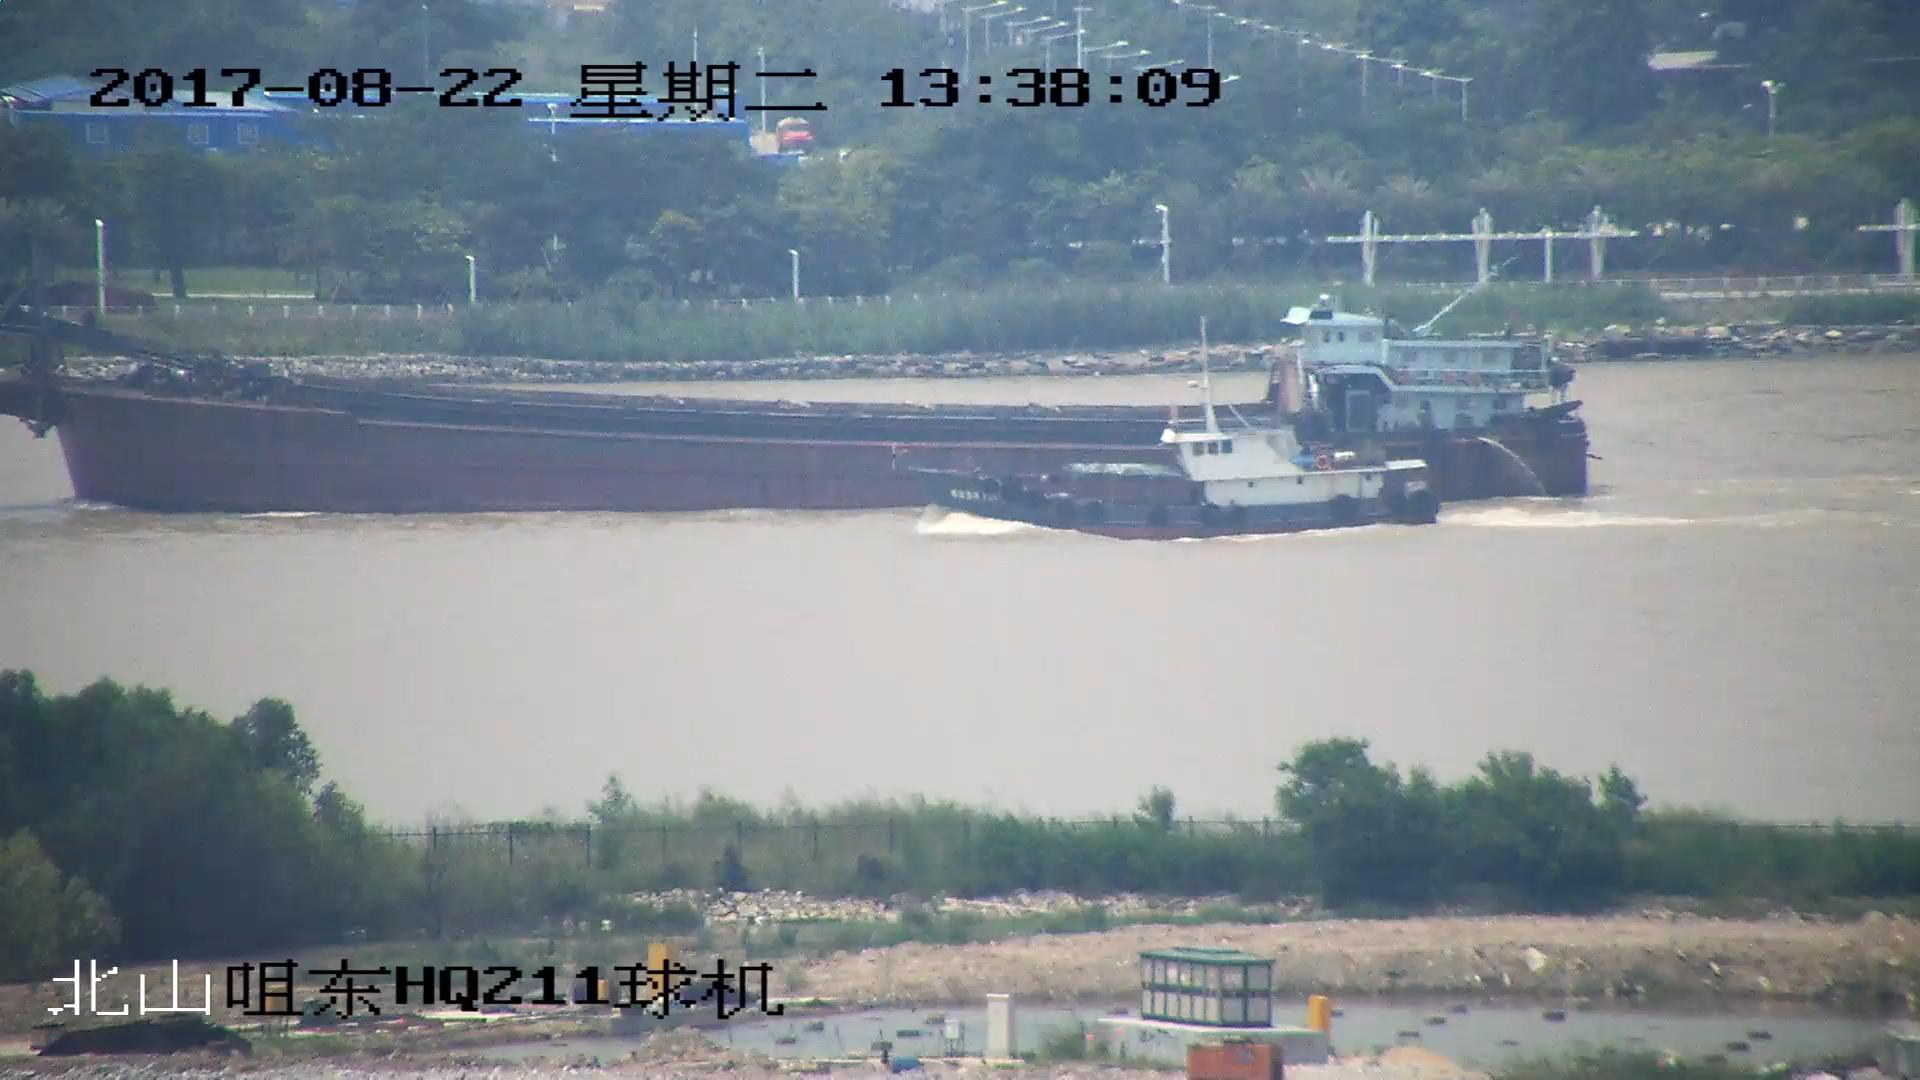Ship: (3, 280, 1596, 521), (951, 364, 1436, 538)
